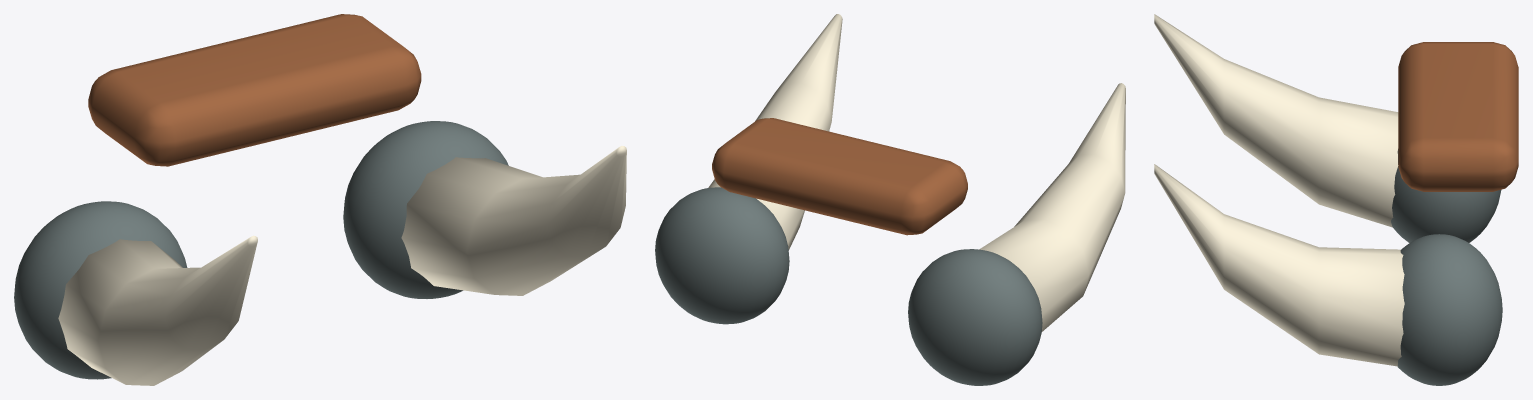
Rendered from enemy-charger-kit.glb.
3 renders of one model, left to right at view 1: azimuth 30°, elevation 25°; view 2: azimuth 150°, elevation 25°; view 3: azimuth 270°, elevation 25°, orthographic. The views are drawn at different scales.
Visible parts, largest first — view 1: enemy-charger-kit_Warm ivory, enemy-charger-kit_Rust, enemy-charger-kit_Gunmetal; view 2: enemy-charger-kit_Gunmetal, enemy-charger-kit_Warm ivory, enemy-charger-kit_Rust; view 3: enemy-charger-kit_Warm ivory, enemy-charger-kit_Gunmetal, enemy-charger-kit_Rust.
Part boxes in pixels (box(x1,y1,x2,y2)): enemy-charger-kit_Warm ivory: box(58, 146, 626, 385); enemy-charger-kit_Rust: box(88, 14, 421, 166); enemy-charger-kit_Gunmetal: box(14, 121, 508, 379); enemy-charger-kit_Gunmetal: box(655, 187, 1042, 385); enemy-charger-kit_Warm ivory: box(708, 14, 1125, 331); enemy-charger-kit_Rust: box(712, 118, 967, 235); enemy-charger-kit_Warm ivory: box(1154, 14, 1404, 366); enemy-charger-kit_Gunmetal: box(1391, 149, 1502, 385); enemy-charger-kit_Rust: box(1398, 42, 1518, 191).
Size of the model in its own units: 0.74 by 0.388 by 0.575.
